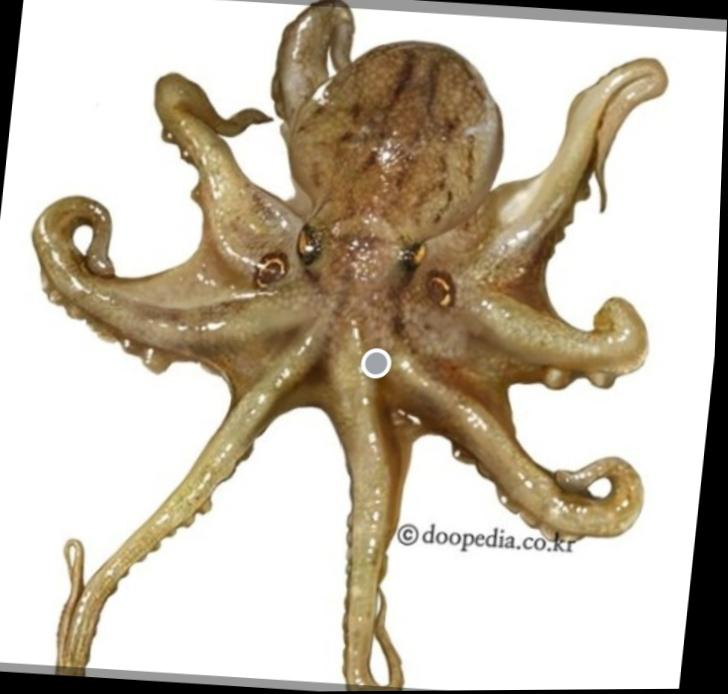Cephalopod: (34, 0, 671, 692)
